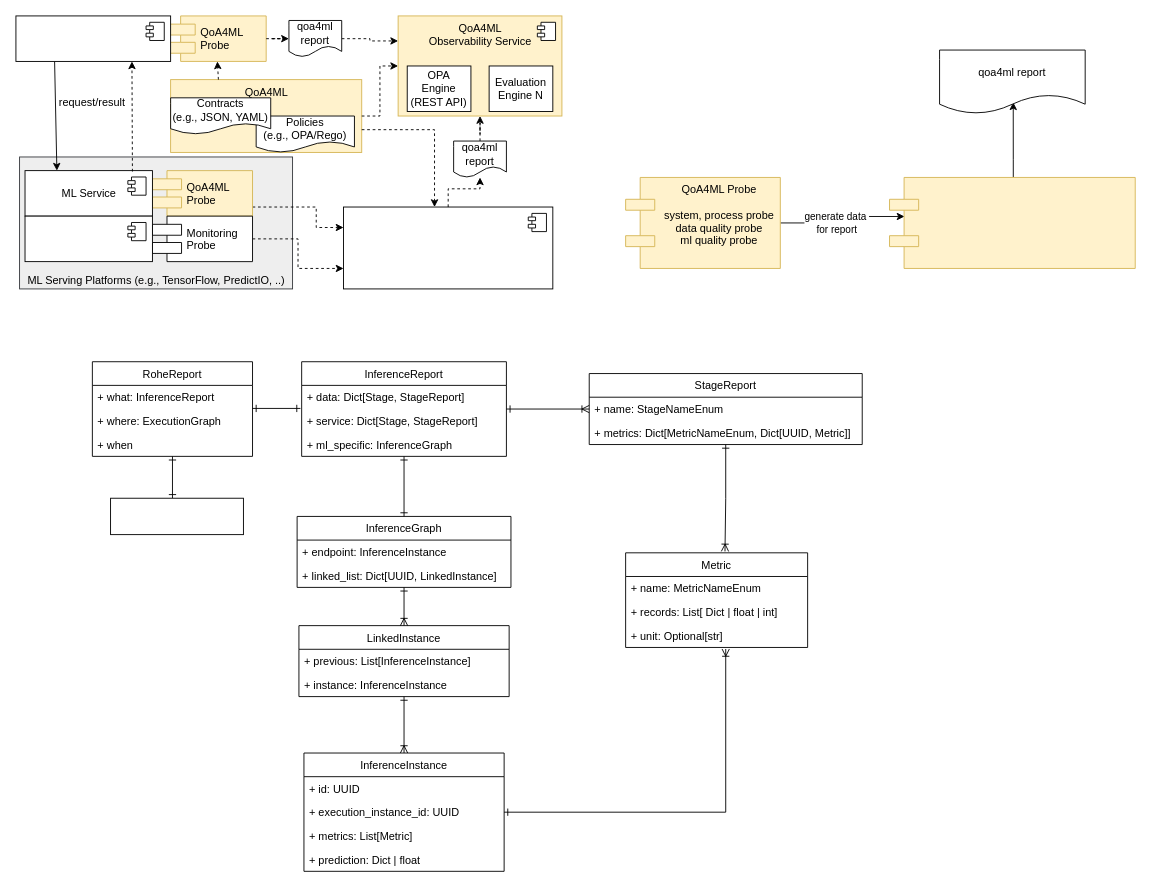
This 1151x890 diagram has some shape labels left out. Each missing label, with the centre of its shape:
+ start_time_stamp + execution_time: [176,516]
ML Consumer: [93,38]
ML Platform Service: [88,238]
Monitoring Service (e.g. Prometheus): [448,247]
QoA Client model: push/pull report: general report/rohe report: [1012,222]
